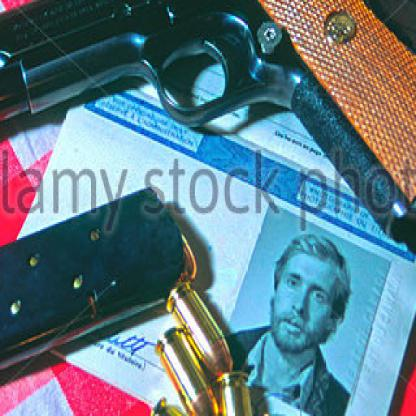gun: (0, 0, 415, 270)
